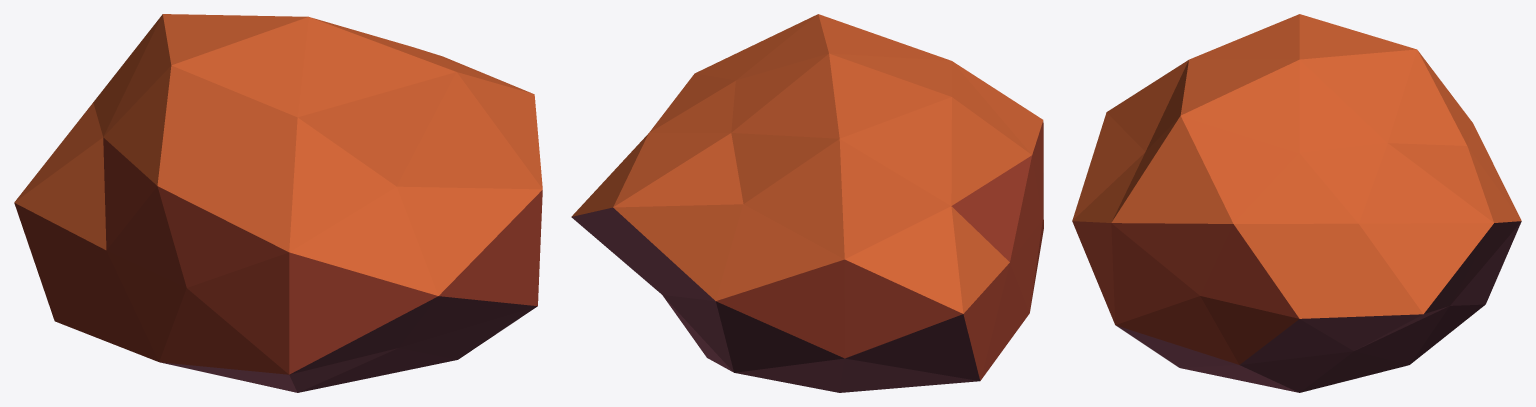
The model's file is Rock_Boulder_B.fbx.
The picture shows the model from 3 angles, left to right: view 1: azimuth 30°, elevation 25°; view 2: azimuth 150°, elevation 25°; view 3: azimuth 270°, elevation 25°; orthographic projection. The views are drawn at different scales.
Parts seen in each view (by area): view 1: Rock_Boulder_B; view 2: Rock_Boulder_B; view 3: Rock_Boulder_B.
Part boxes in pixels (x1,y1,x2,y2): Rock_Boulder_B: (14,14,542,392); Rock_Boulder_B: (571,14,1043,392); Rock_Boulder_B: (1072,14,1521,392).
Size of the model in its own units: 2.19 by 1.45 by 2.16.
